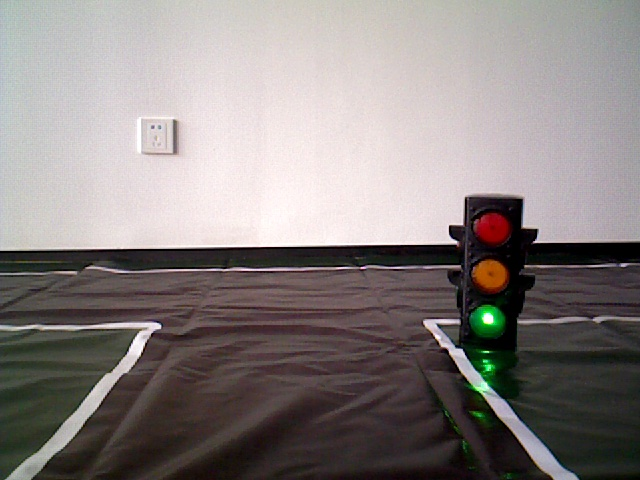green: (465, 202, 507, 340)
